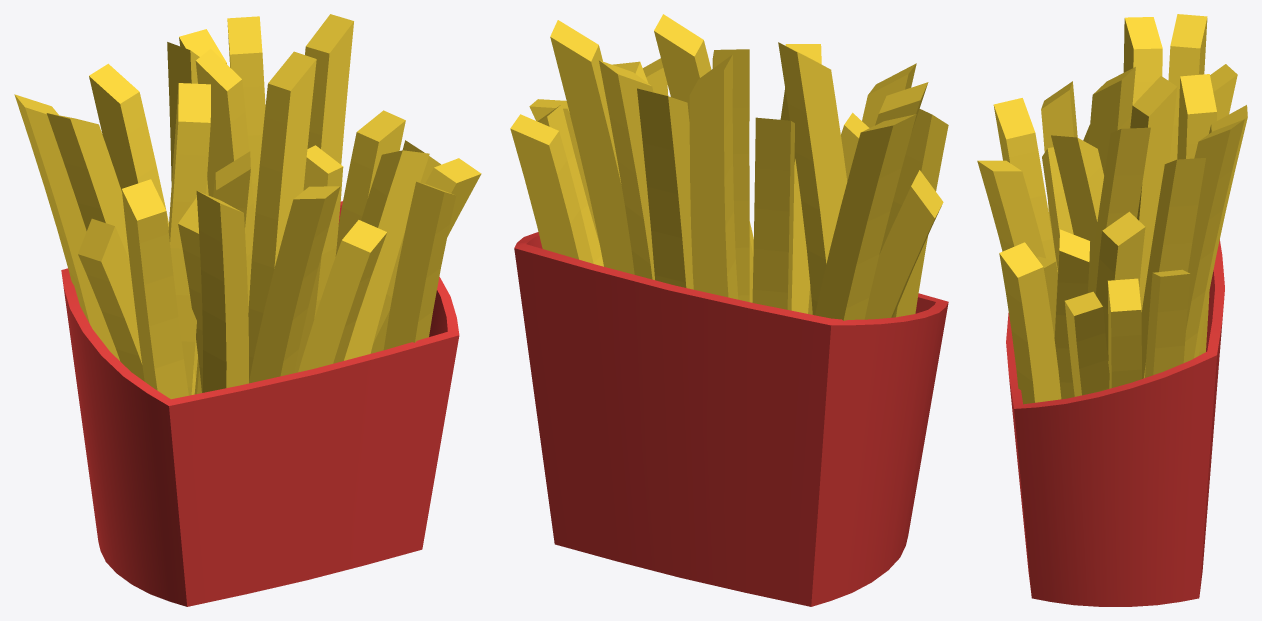
File: french_fries.glb
3 renders of one model, left to right at view 1: azimuth 30°, elevation 25°; view 2: azimuth 150°, elevation 25°; view 3: azimuth 270°, elevation 25°, orthographic. The views are drawn at different scales.
Visible parts, largest first — view 1: Cube.352; view 2: Cube.352; view 3: Cube.352.
Boxes of the visible parts, x1=… form: Cube.352: x1=14, y1=14, x2=481, y2=606; Cube.352: x1=510, y1=14, x2=948, y2=606; Cube.352: x1=977, y1=14, x2=1247, y2=606.
Size of the model in its own units: 2.03 by 2.31 by 1.26.
Materials: 1 (1 with a texture image).
